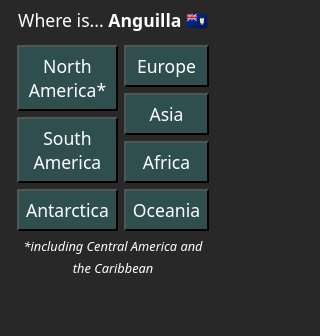
Test case: Question › should update the display and inform its parent when the answer is correct
Click the 1st button: (67, 78) [17, 45, 118, 111]
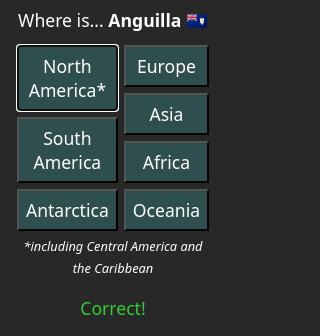
Expected: the text "Correct!" is shown, [80, 296, 146, 320]
